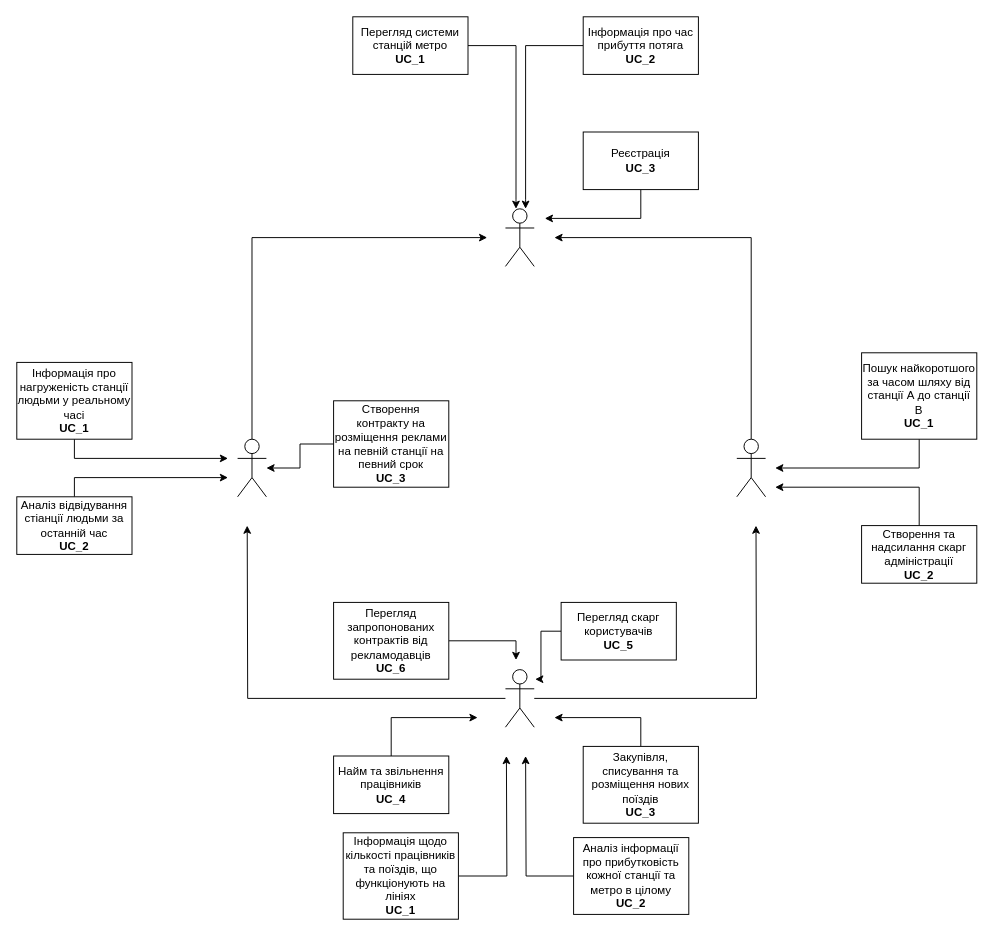
The diagram is 994 pixels wide and 936 high, and some of its shapes have lost their labels. The shapes that lost their labels are listed below. From the top down, each one's box as (x1, y1, x2, y2) in pixels, then its label:
(504, 208, 534, 266): Гість
(237, 438, 266, 497): Рекламодавець
(736, 438, 766, 497): Користувач
(504, 669, 534, 727): Адміністратор
